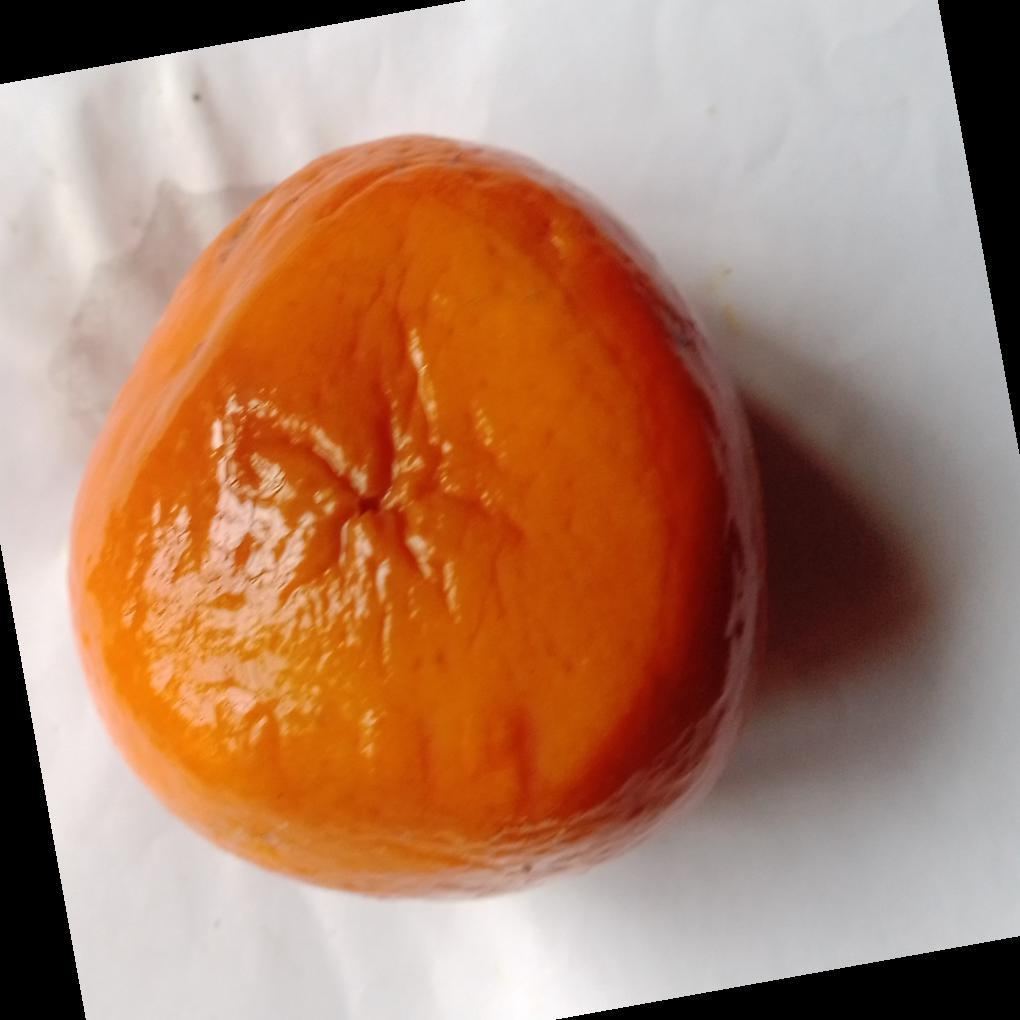FreshOrange: (67, 134, 769, 906)
